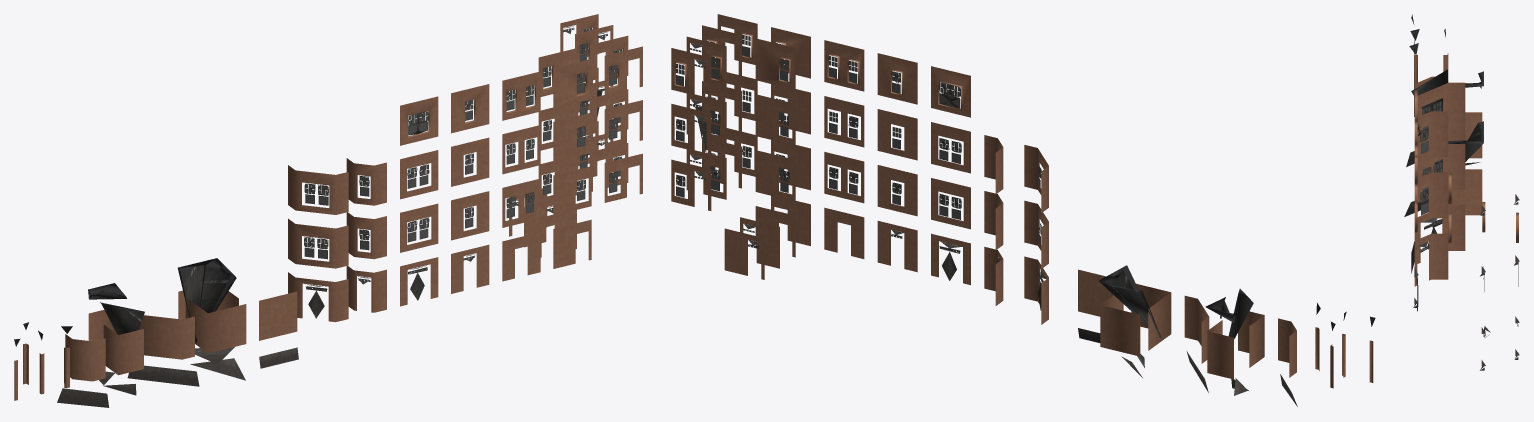
3 views of the same model, side by side, from view 1: azimuth 30°, elevation 25°; view 2: azimuth 150°, elevation 25°; view 3: azimuth 270°, elevation 25° (orthographic). The views are drawn at different scales.
Visible parts, largest first — view 1: door_angled_small_01, door_angled_small_01.002, door_angled_small_01.004, door_angled_small_01.003, door_angled_small_01.001; view 2: door_angled_small_01, door_angled_small_01.002, door_angled_small_01.004, door_angled_small_01.001, door_angled_small_01.003; view 3: door_angled_small_01, door_angled_small_01.004, door_angled_small_01.001, door_angled_small_01.002, door_angled_small_01.003.
Boxes of the visible parts, bbox=[...] form: door_angled_small_01: bbox=[14, 14, 642, 400]; door_angled_small_01.002: bbox=[304, 27, 621, 290]; door_angled_small_01.004: bbox=[14, 258, 236, 346]; door_angled_small_01.003: bbox=[57, 347, 298, 407]; door_angled_small_01.001: bbox=[304, 25, 622, 318]; door_angled_small_01: bbox=[671, 14, 1373, 388]; door_angled_small_01.002: bbox=[675, 34, 1043, 281]; door_angled_small_01.004: bbox=[1098, 265, 1375, 339]; door_angled_small_01.001: bbox=[675, 41, 1046, 310]; door_angled_small_01.003: bbox=[1078, 328, 1297, 406]; door_angled_small_01: bbox=[1414, 40, 1518, 286]; door_angled_small_01.004: bbox=[1409, 14, 1483, 168]; door_angled_small_01.001: bbox=[1413, 101, 1519, 370]; door_angled_small_01.002: bbox=[1419, 101, 1442, 251]; door_angled_small_01.003: bbox=[1404, 151, 1479, 273].
Bounding box in the file's own units: 49.23 × 17.71 × 6.86.
5 materials, 5 textured.
